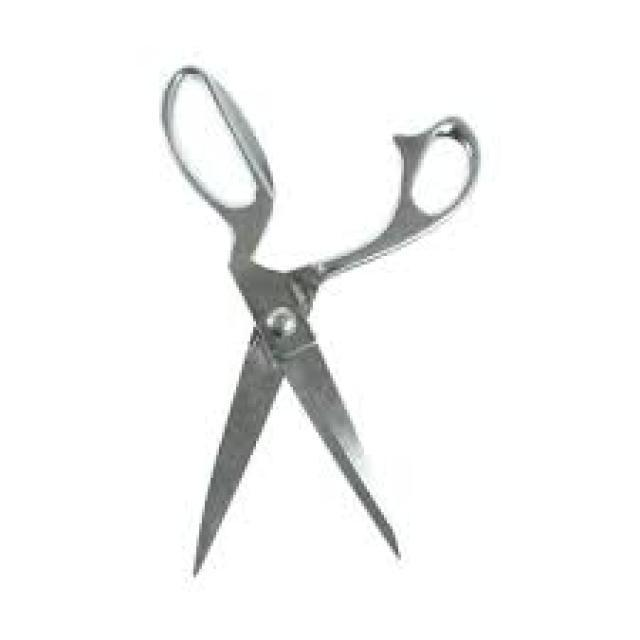Scissors: (142, 44, 500, 594)
